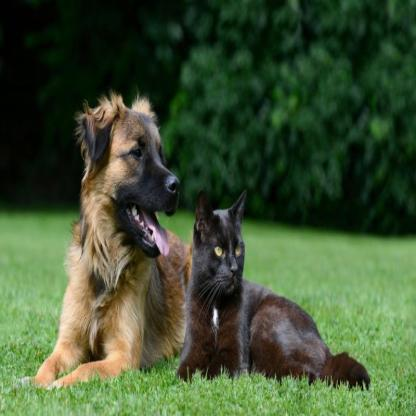cat: (186, 166, 262, 322)
dog: (62, 80, 193, 279)
